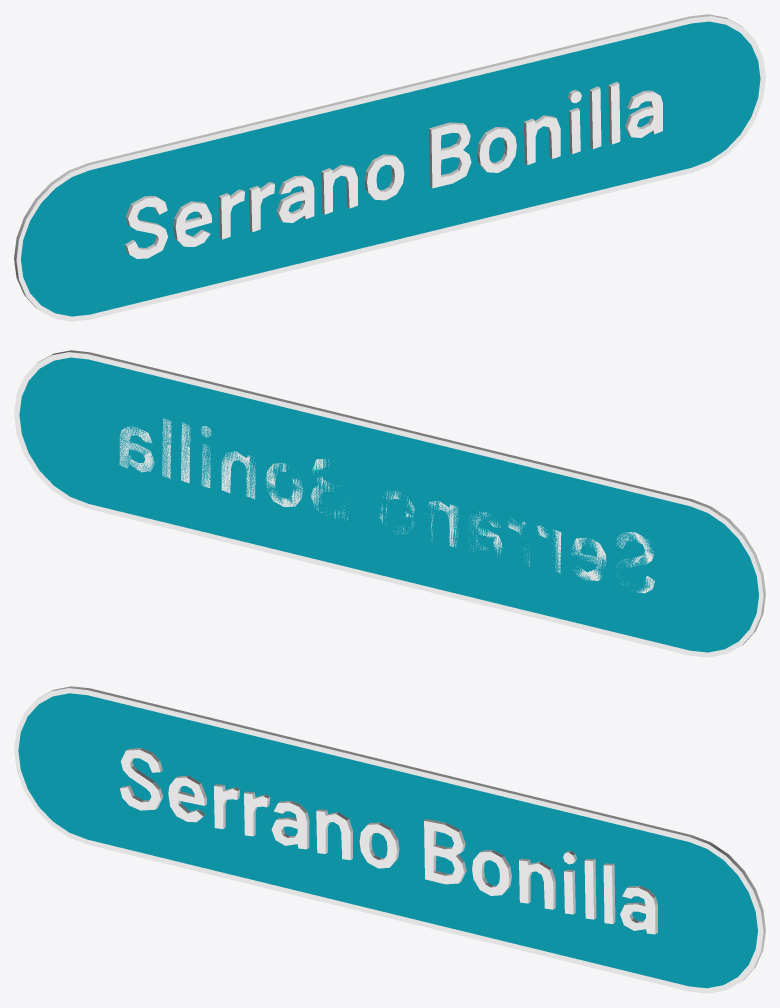
Rendered from serranobonillaOBJ.obj.
The picture shows the model from 3 angles, top to bottom: view 1: azimuth 30°, elevation 25°; view 2: azimuth 150°, elevation 25°; view 3: azimuth 330°, elevation 25°; orthographic projection.
Visible parts, largest first — view 1: Entorno_57_Entorno_1__24104_, Texto_de_modelo_Texto_de_modelo_10__24092_, Entorno_58_Entorno_1__24116_; view 2: Entorno_57_Entorno_1__24104_, Entorno_58_Entorno_1__24116_, Texto_de_modelo_Texto_de_modelo_10__24092_; view 3: Entorno_57_Entorno_1__24104_, Texto_de_modelo_Texto_de_modelo_10__24092_, Entorno_58_Entorno_1__24116_.
Part boxes in pixels (bbox=[...]): Entorno_57_Entorno_1__24104_: bbox=[21, 21, 760, 316]; Texto_de_modelo_Texto_de_modelo_10__24092_: bbox=[125, 82, 662, 258]; Entorno_58_Entorno_1__24116_: bbox=[14, 14, 765, 321]; Entorno_57_Entorno_1__24104_: bbox=[19, 357, 758, 652]; Entorno_58_Entorno_1__24116_: bbox=[14, 350, 765, 657]; Texto_de_modelo_Texto_de_modelo_10__24092_: bbox=[119, 418, 654, 593]; Entorno_57_Entorno_1__24104_: bbox=[18, 693, 757, 988]; Texto_de_modelo_Texto_de_modelo_10__24092_: bbox=[120, 748, 657, 934]; Entorno_58_Entorno_1__24116_: bbox=[14, 686, 765, 993].
Bounding box in the file's own units: 52.69 × 10.39 × 0.6.
